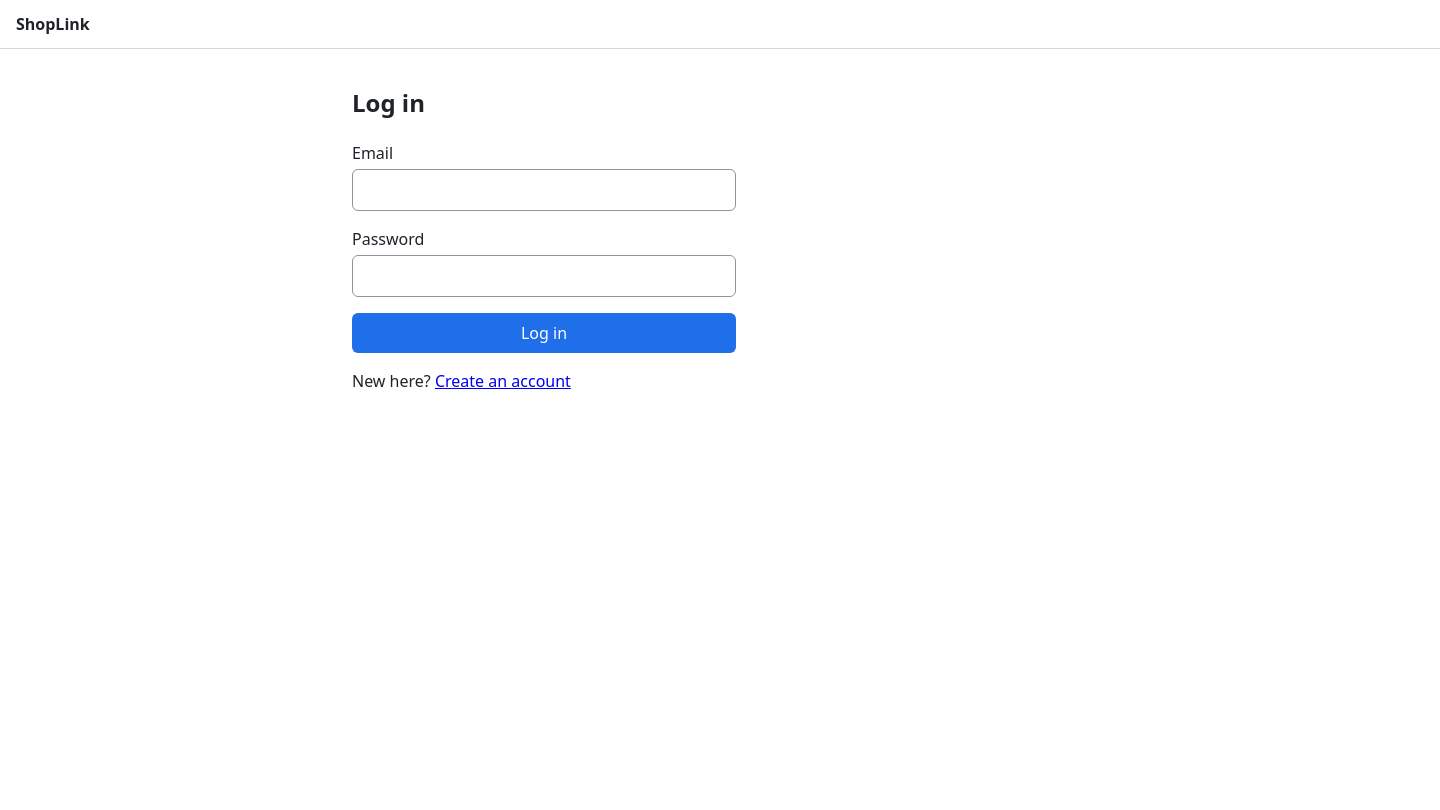
it: log in page › logs in and goes to the products page
This screenshot has width=1440, height=810.
Expected: the heading "Log in" is shown, [352,86,425,119]
In the field labelled "Email": (544,190) [352,169,736,211], type "rafi@example.com"
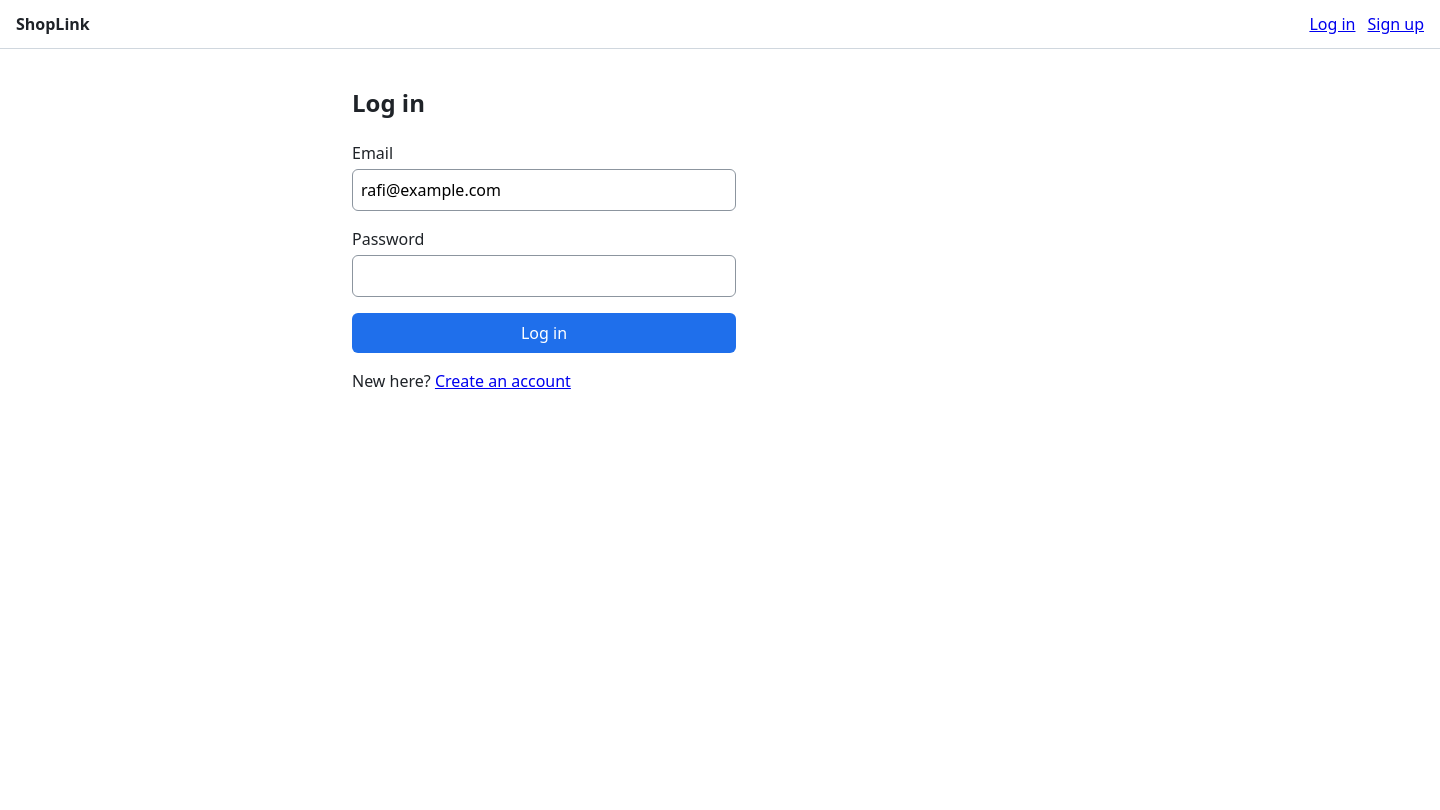
In the password field labelled "Password": (544,276) [352,255,736,297], type "correct horse"
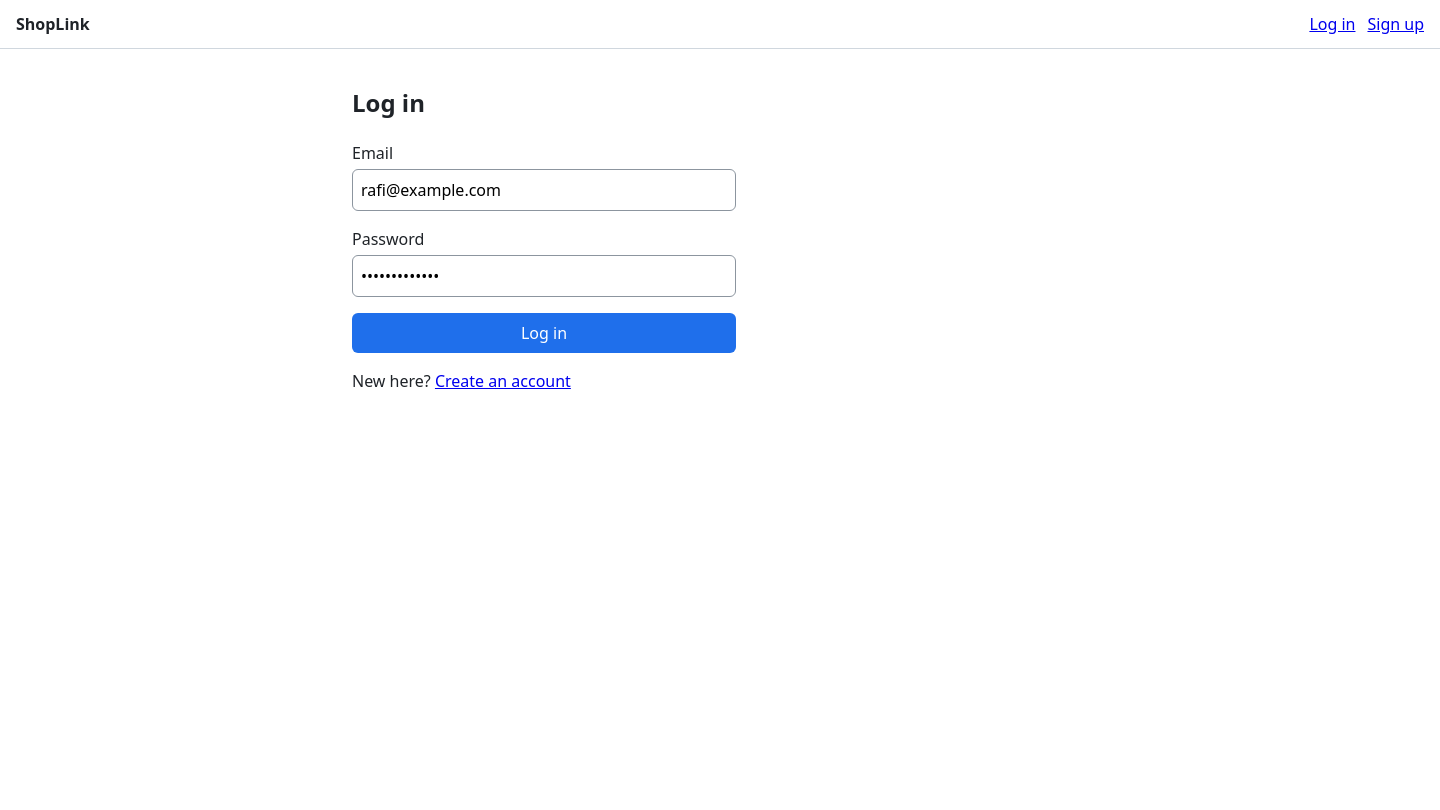
Click the button "Log in": (544,333) [352,313,736,353]
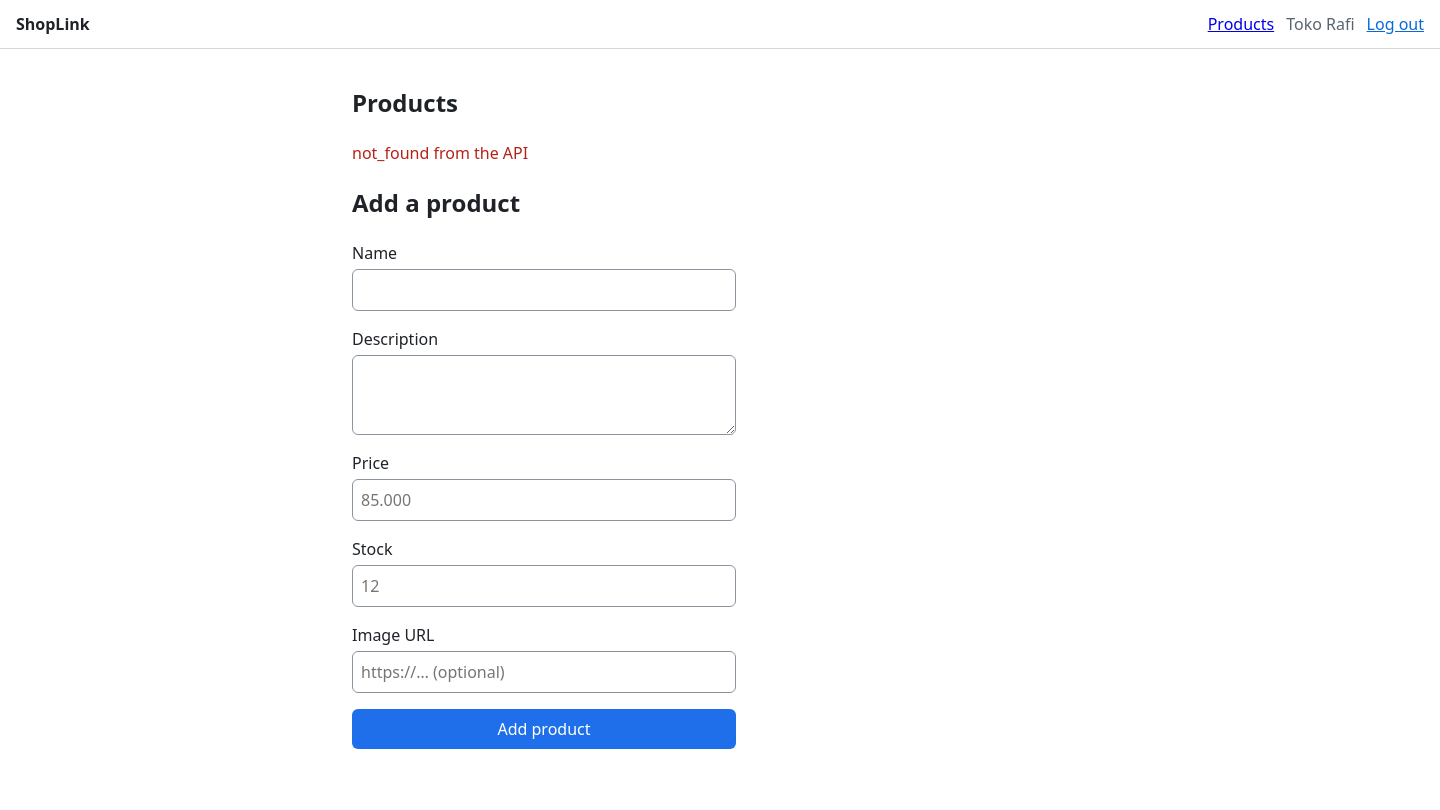
Expected: the heading "Products" is shown, [352,86,458,119]
Expected: the text "Toko Rafi" is shown, [1286,12,1355,36]
